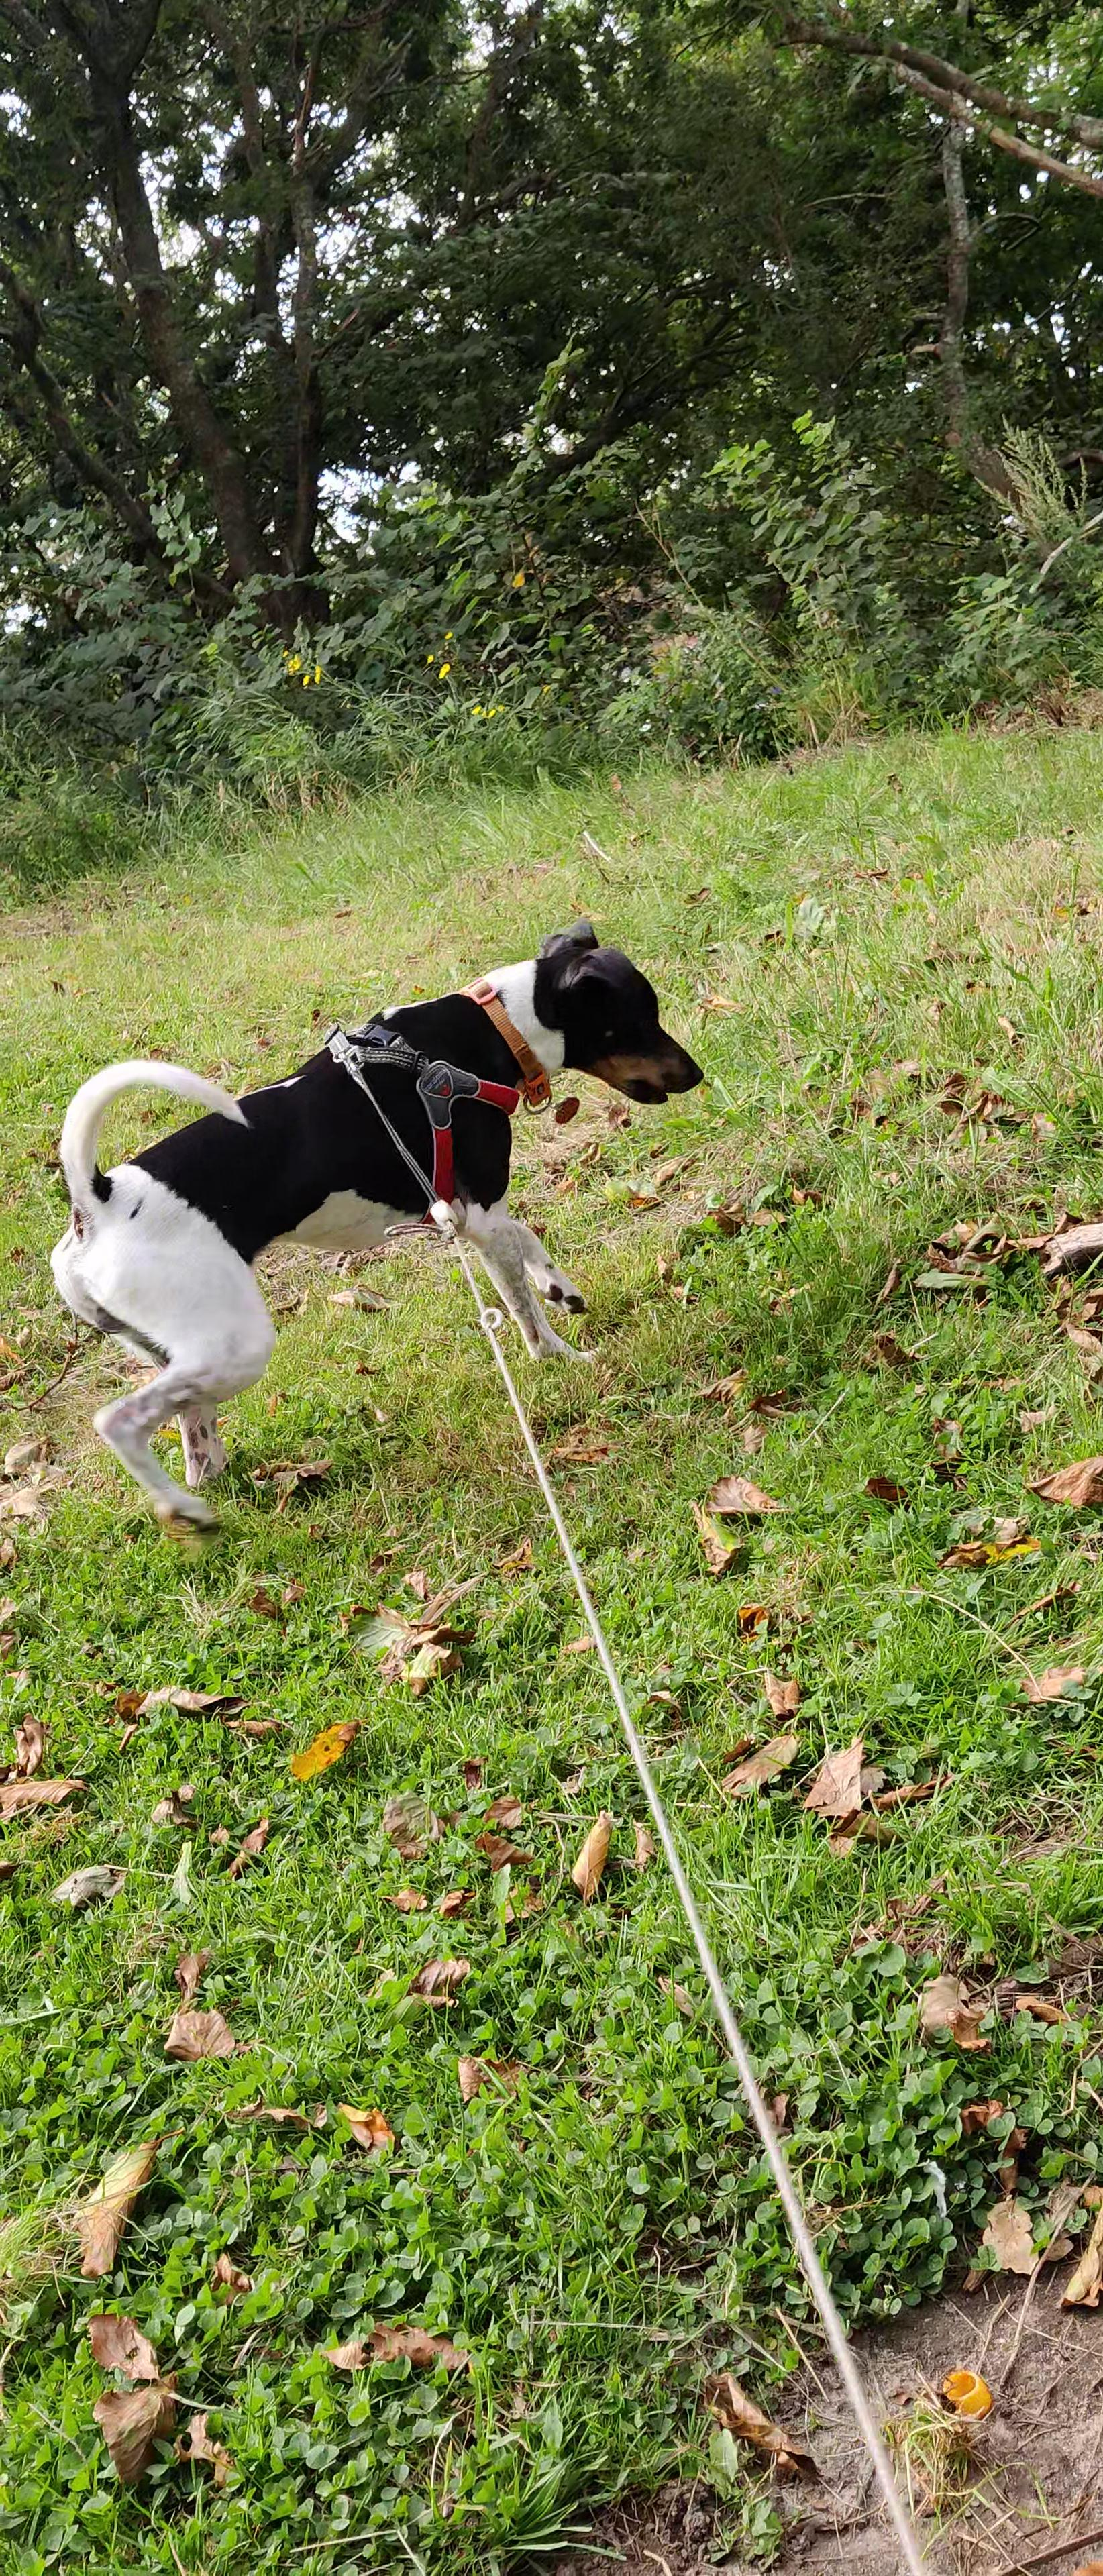Dog: (15, 904, 713, 1541)
